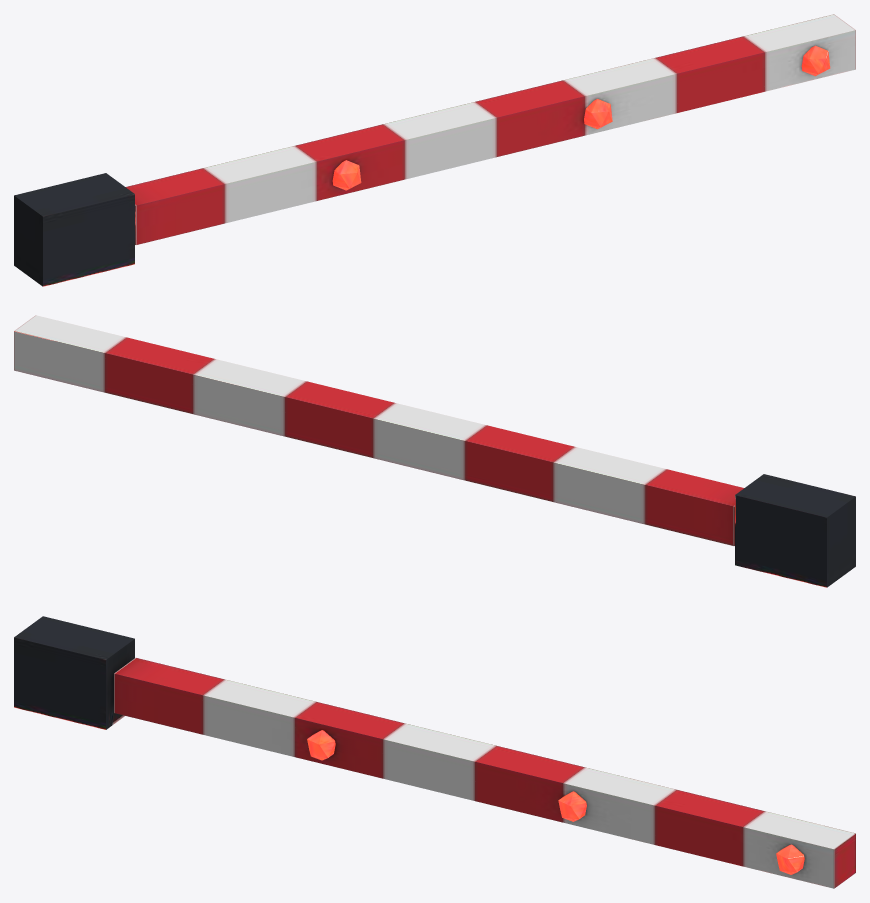
File: paso_nivel_brazo.glb
3 views of the same model, one above another, from view 1: azimuth 30°, elevation 25°; view 2: azimuth 150°, elevation 25°; view 3: azimuth 330°, elevation 25° (orthographic).
Parts seen in each view (by area): view 1: paso_nivel_brazo; view 2: paso_nivel_brazo; view 3: paso_nivel_brazo.
Boxes of the visible parts, <box> form: paso_nivel_brazo: <box>14,14,855,286</box>; paso_nivel_brazo: <box>14,315,855,587</box>; paso_nivel_brazo: <box>14,616,855,888</box>.
Size of the model in its own units: 1.95 by 0.16 by 0.1398.
1 material, 1 textured.
